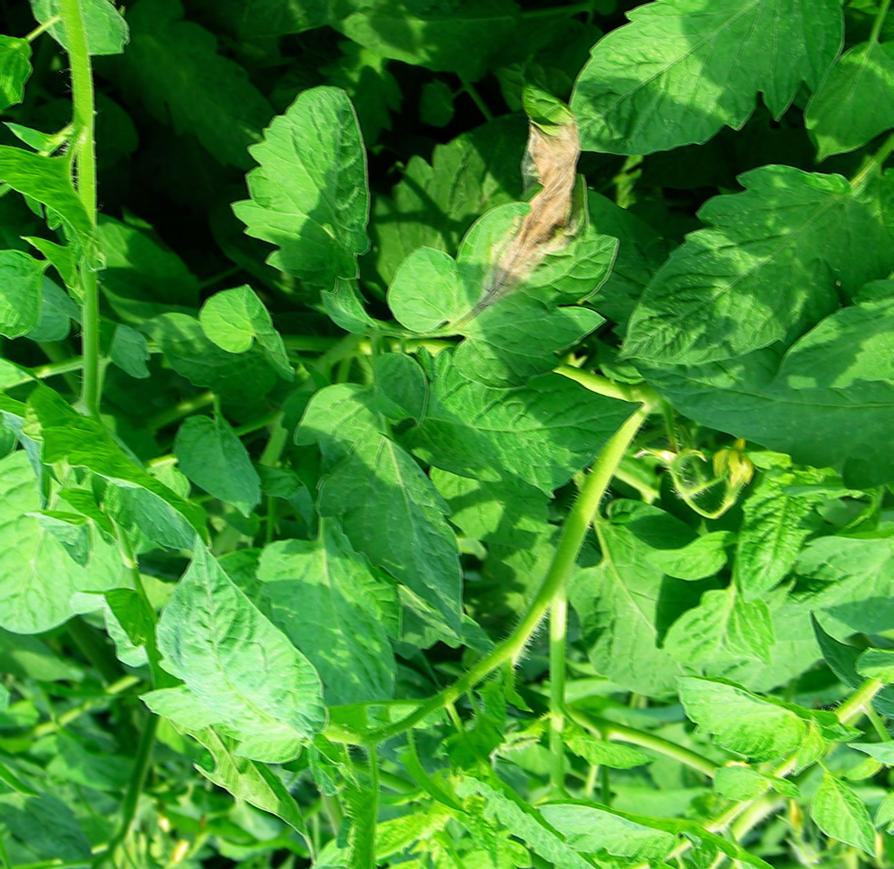Tomato leaf: (619, 129, 894, 377), (293, 350, 487, 652), (563, 0, 852, 143), (228, 75, 377, 320), (252, 484, 397, 735), (0, 450, 116, 643), (790, 253, 894, 416), (798, 33, 894, 165), (664, 678, 832, 751)
Tomato leaf late blight: (400, 143, 615, 358)
